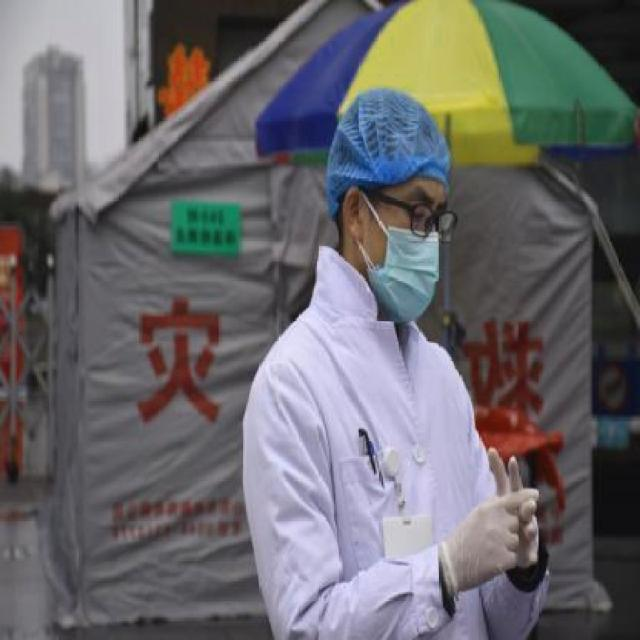face_mask: (366, 183, 457, 325)
glasses: (407, 200, 458, 246)
hand_glove: (448, 488, 538, 598), (489, 443, 537, 583)
head_nohelmet: (327, 88, 455, 200)
person: (249, 89, 543, 640)
